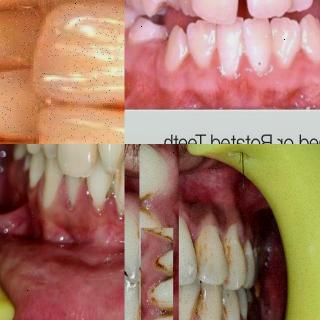Gum Swelling: (47, 175, 124, 226)
calculus: (96, 170, 124, 208)
maligned: (98, 144, 124, 177), (177, 0, 206, 12)
plaque: (232, 36, 252, 64)
stains: (217, 231, 239, 285), (188, 234, 212, 282), (149, 275, 175, 310), (182, 287, 208, 320), (138, 174, 162, 209), (140, 201, 168, 229), (215, 292, 237, 320), (124, 285, 140, 320), (153, 250, 175, 274), (142, 226, 172, 243), (145, 307, 174, 320), (136, 144, 167, 153)
